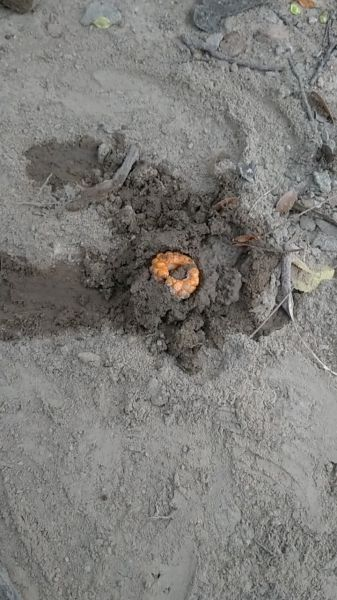eggs: (141, 242, 210, 310)
